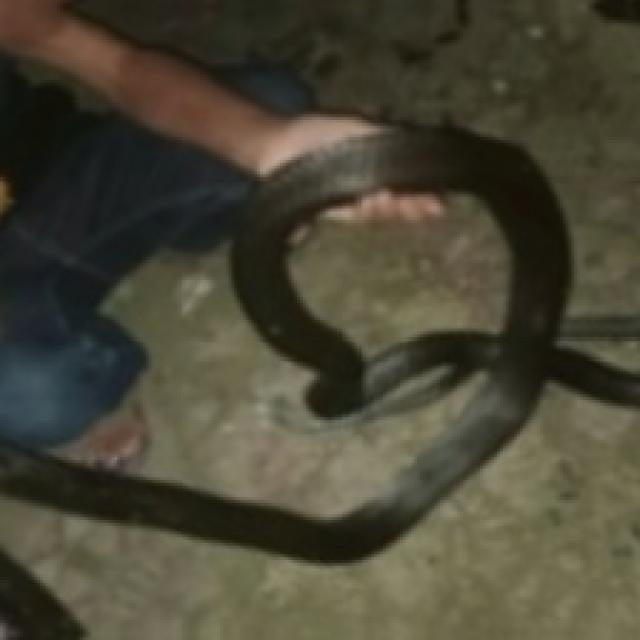king cobra: (0, 126, 637, 560), (286, 189, 511, 360)
